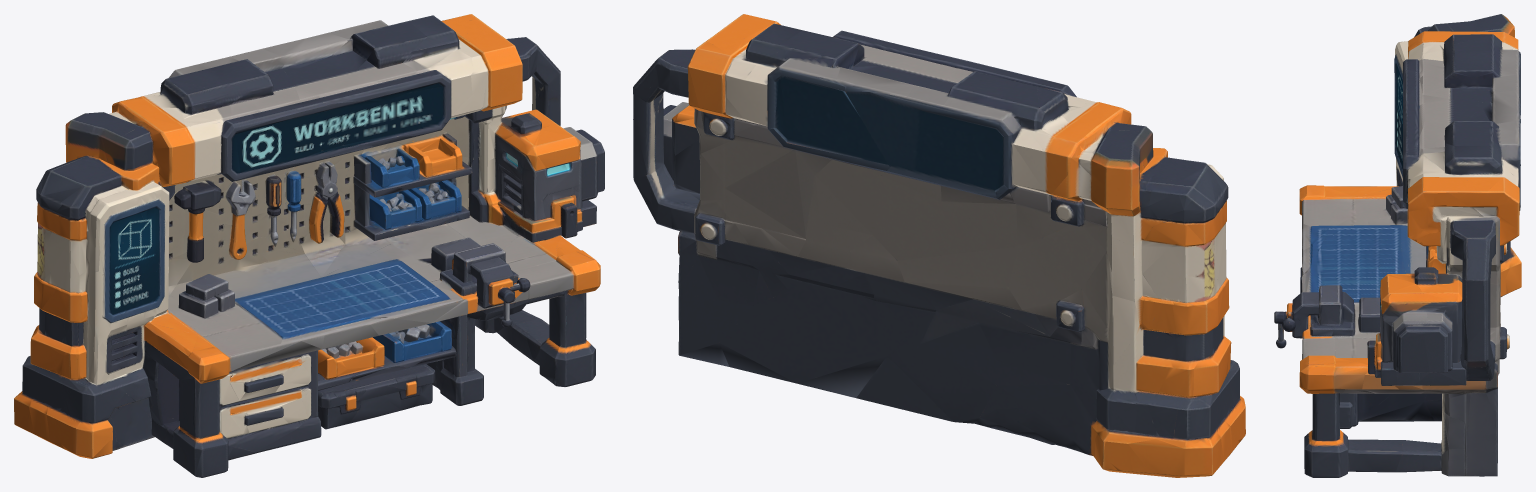
Rendered from Futuristic_Workbench.glb.
3 renders of one model, left to right at view 1: azimuth 30°, elevation 25°; view 2: azimuth 150°, elevation 25°; view 3: azimuth 270°, elevation 25°, orthographic. The views are drawn at different scales.
Visible parts, largest first — view 1: Mesh_0; view 2: Mesh_0; view 3: Mesh_0.
Part boxes in pixels (x1=…): Mesh_0: x1=14, y1=14, x2=604, y2=477; Mesh_0: x1=633, y1=14, x2=1245, y2=477; Mesh_0: x1=1274, y1=14, x2=1521, y2=477.
Size of the model in its own units: 1.9 by 1.03 by 0.7924.
Materials: 1 (1 with a texture image).
